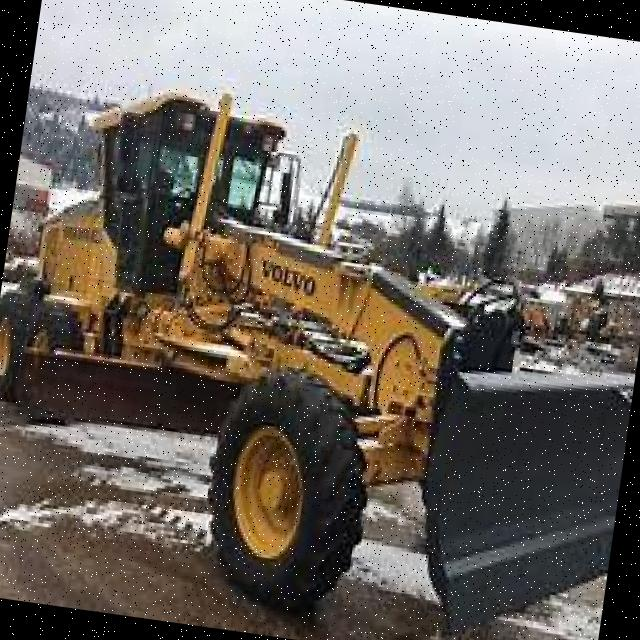Grader: (0, 56, 574, 629)
